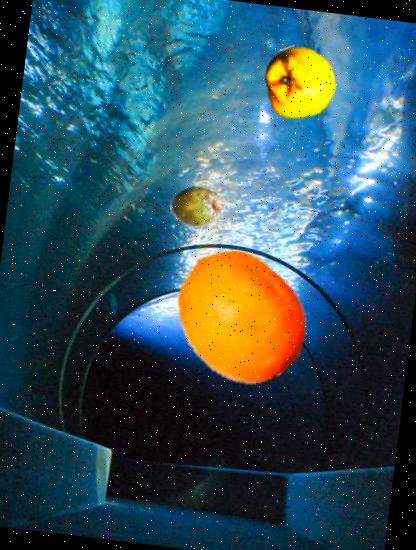Cactus: (166, 176, 226, 235)
Lemon: (160, 238, 317, 395)
Quince: (258, 41, 339, 122)
